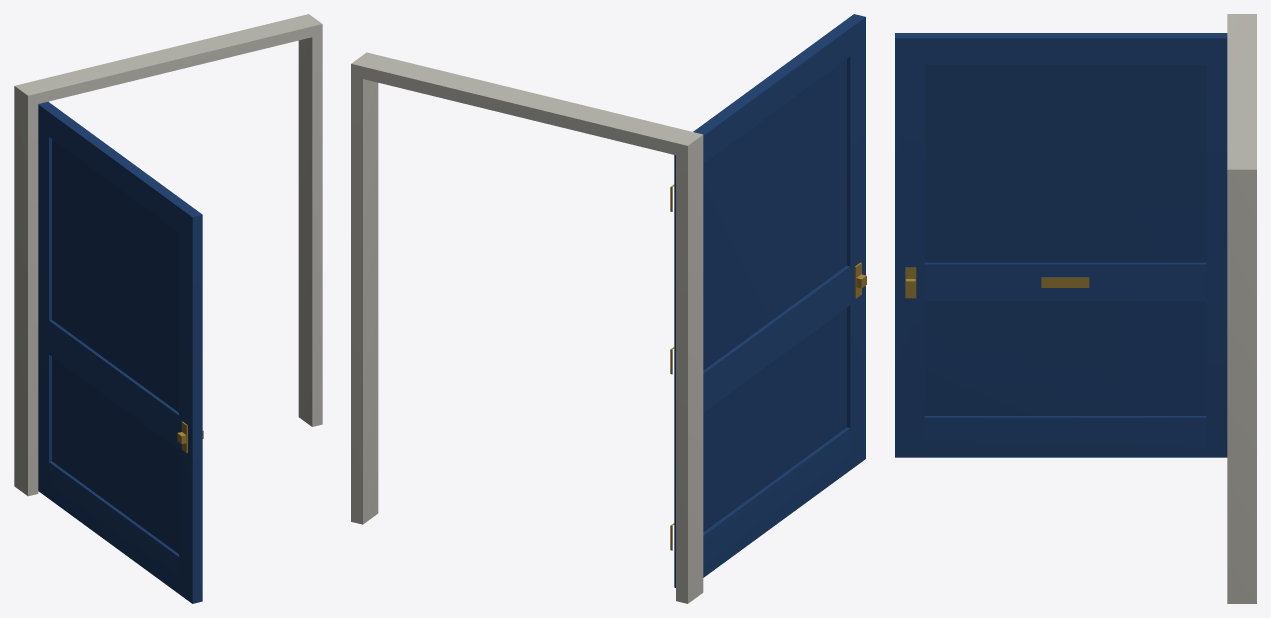
Rendered from door.painted_open.blue.glb.
3 renders of one model, left to right at view 1: azimuth 30°, elevation 25°; view 2: azimuth 150°, elevation 25°; view 3: azimuth 270°, elevation 25°, orthographic. The views are drawn at different scales.
Visible parts, largest first — view 1: door_painted_open_blue; view 2: door_painted_open_blue; view 3: door_painted_open_blue.
Part boxes in pixels (x1,y1,x2,y2): door_painted_open_blue: [14, 14, 322, 603]; door_painted_open_blue: [351, 14, 866, 603]; door_painted_open_blue: [895, 14, 1256, 603].
Size of what is drawn, in the model's own units: 2 by 2.6 by 1.96.
